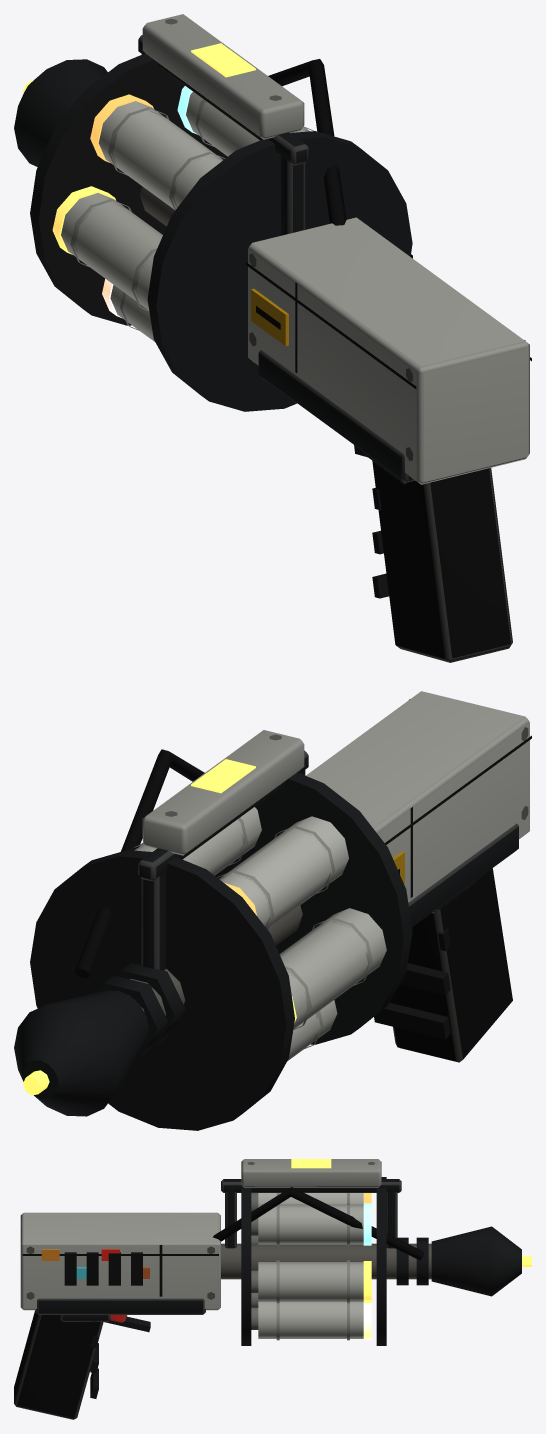
Rendered from tool_tag_painter.glb.
3 renders of one model, top to bottom at view 1: azimuth 30°, elevation 25°; view 2: azimuth 150°, elevation 25°; view 3: azimuth 270°, elevation 25°, orthographic. The views are drawn at different scales.
Parts seen in each view (by area): view 1: Body, Carousel; view 2: Body, Carousel; view 3: Body, Carousel.
Part boxes in pixels (x1,y1,x2,y2): Body: (14,14,531,662); Carousel: (52,86,313,342); Body: (14,691,531,1130); Carousel: (133,807,386,1061); Body: (14,1159,531,1419); Carousel: (251,1193,371,1340).
Size of the model in its own units: 0.17 by 0.2732 by 0.5165.
